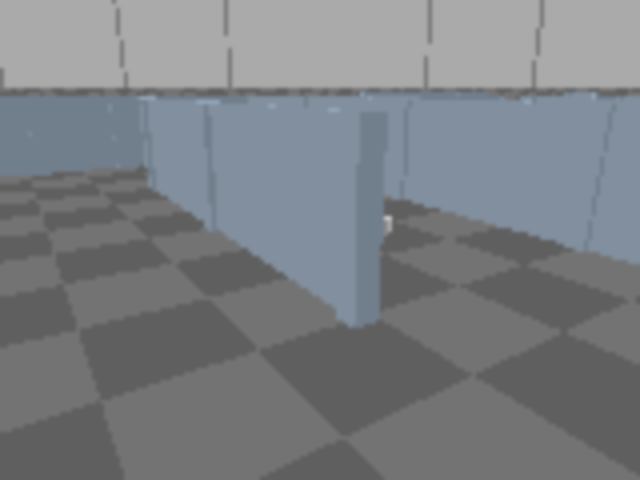puck: (376, 216, 393, 235)
traffic_light: (619, 70, 638, 366)
